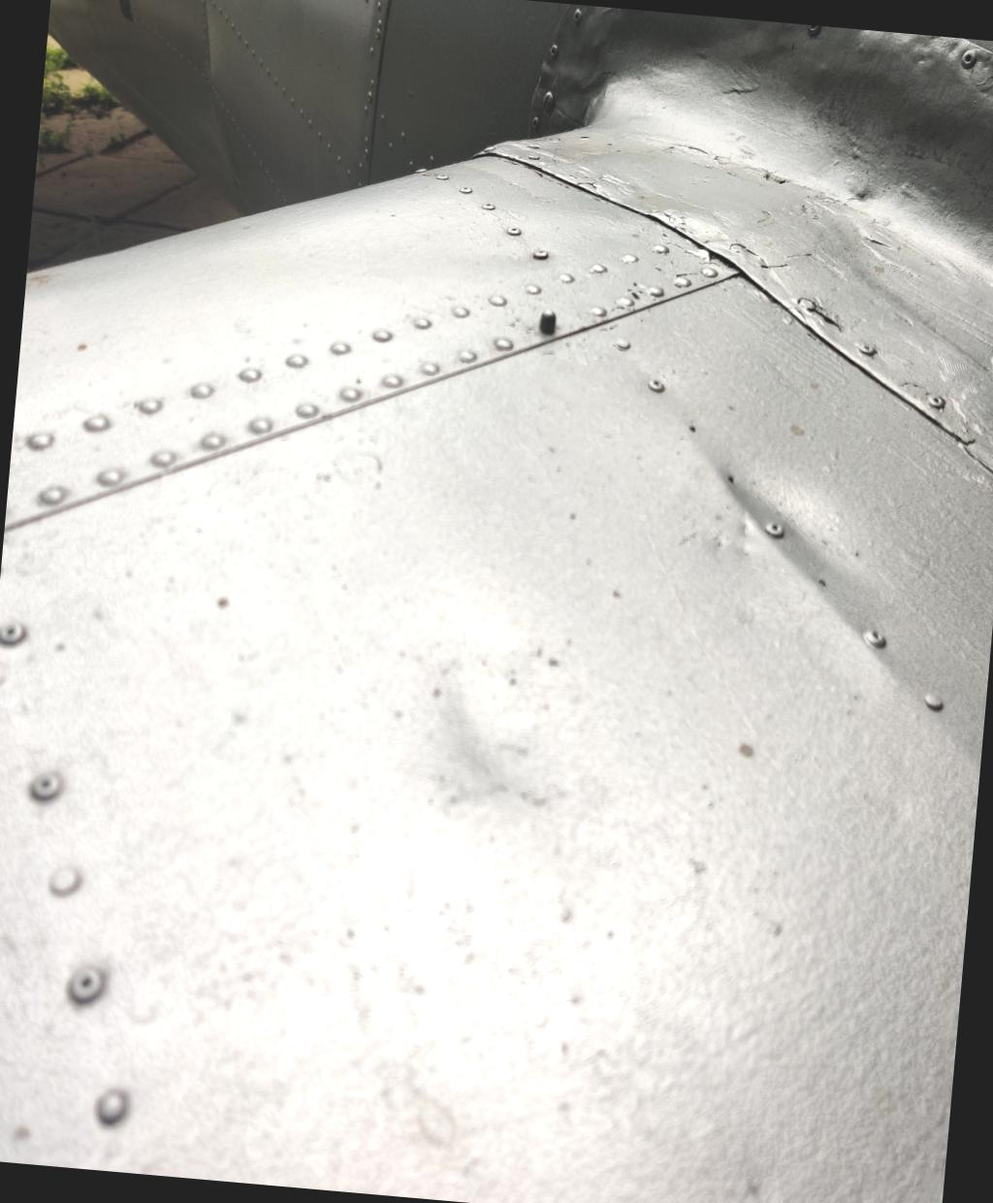dent: (383, 576, 618, 853), (679, 410, 888, 637)
